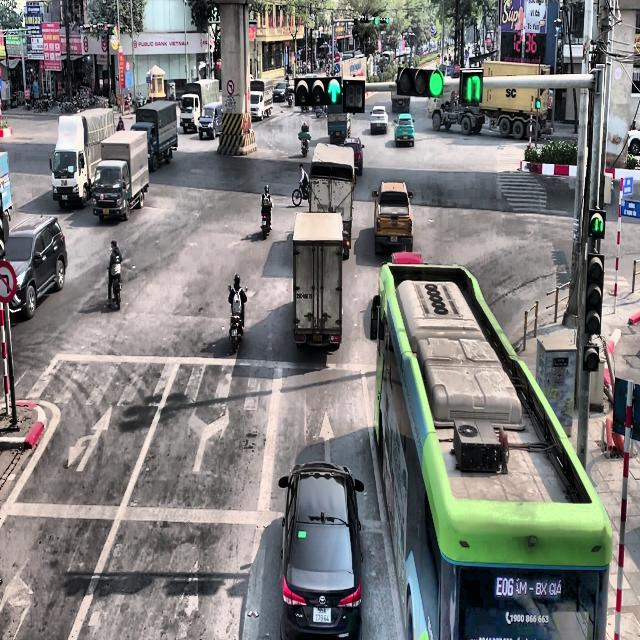BUS: (370, 253, 612, 639)
CAR: (278, 460, 364, 640), (3, 214, 67, 321), (372, 181, 413, 255), (198, 101, 222, 140), (342, 136, 364, 176), (370, 105, 388, 134), (272, 81, 290, 102), (316, 105, 325, 118)
MOTORBIKE: (228, 285, 247, 353), (107, 266, 121, 309), (292, 178, 310, 206), (260, 202, 273, 240), (301, 138, 309, 156)
TRAFFIC_LIGHT: (584, 251, 604, 335), (396, 66, 444, 98), (459, 68, 483, 106), (588, 208, 606, 238), (374, 15, 389, 25), (374, 16, 378, 26)
TRUCK: (49, 106, 116, 208), (92, 129, 149, 221), (131, 99, 178, 172), (250, 78, 273, 120)
